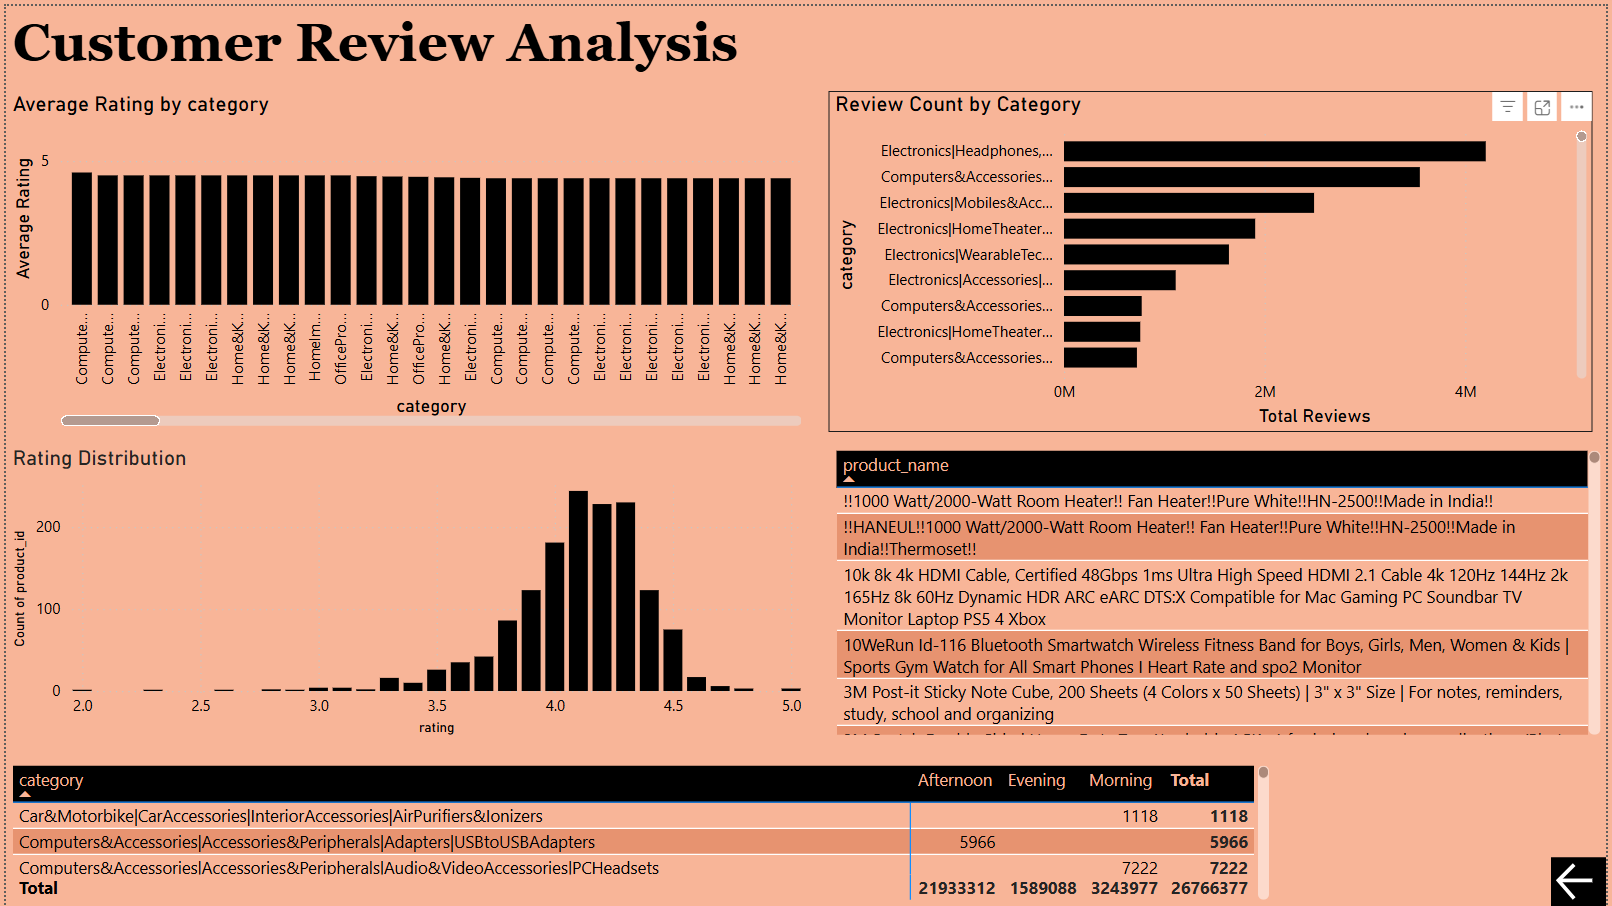

The dashboard page shown, as its layout file describes it:
{"tool":"powerbi","page":{"name":"Customer Review Analysis","canvas":[1280,720],"ordinal":1},"visuals":[{"type":"actionButton","box":[1236.2,681.4,43.8,38.9],"z":4},{"type":"textbox","box":[0,0,611.2,68.4],"z":5},{"type":"columnChart","fields":{"Category":["amazon.category"],"Y":["amazon.Average Rating"]},"box":[0,68.5,640.6,272.6],"z":6},{"type":"barChart","title":"Review Count by Category","fields":{"Category":["amazon.category"],"Y":["amazon.Total Reviews"]},"box":[657.7,68.5,611.3,272.6],"z":7},{"type":"clusteredColumnChart","title":"Rating Distribution","fields":{"Category":["amazon.rating"],"Y":["CountNonNull(amazon.product_id)"]},"box":[0,350.9,640.6,237.2],"z":8},{"type":"tableEx","fields":{"Values":["amazon.product_name"]},"box":[657.7,350.9,622.3,237.2],"z":9},{"type":"pivotTable","fields":{"Rows":["amazon.category"],"Columns":["amazon.Time_of_day"],"Values":["amazon.Total Reviews"]},"box":[0,602.7,1014.7,117.4],"z":10}]}

Visuals, with their boxes in screenshot pixels (x1, y1, x2, y2), scaled from the page's 1280x720 canvas onto the 1612x906 screenshot:
actionButton: x1=1557, y1=857, x2=1611, y2=905
textbox: x1=0, y1=0, x2=770, y2=86
columnChart - amazon.category x amazon.Average Rating: x1=0, y1=86, x2=807, y2=429
"Review Count by Category" barChart: x1=828, y1=86, x2=1598, y2=429
"Rating Distribution" clusteredColumnChart: x1=0, y1=442, x2=807, y2=740
tableEx - amazon.product_name: x1=828, y1=442, x2=1611, y2=740
pivotTable - amazon.category x amazon.Time_of_day: x1=0, y1=758, x2=1278, y2=905
